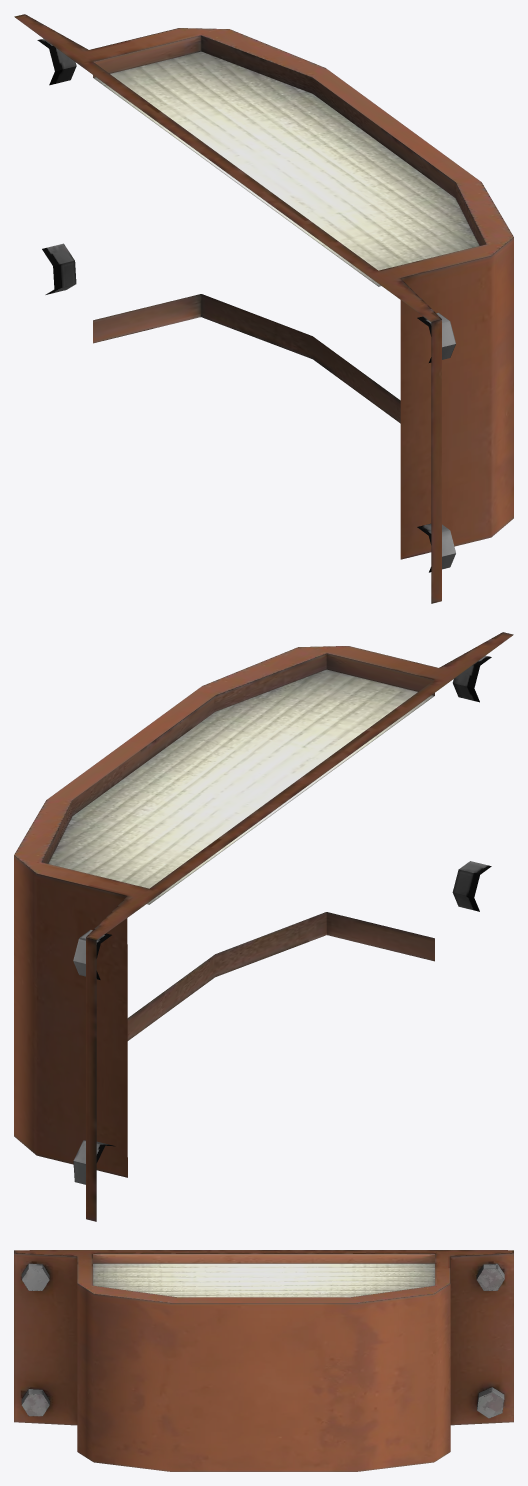
3 views of the same model, one above another, from view 1: azimuth 30°, elevation 25°; view 2: azimuth 150°, elevation 25°; view 3: azimuth 270°, elevation 25° (orthographic). The views are drawn at different scales.
Parts seen in each view (by area): view 1: body0_model0_lod0_mesh0; view 2: body0_model0_lod0_mesh0; view 3: body0_model0_lod0_mesh0.
Part boxes in pixels (x1=…): body0_model0_lod0_mesh0: x1=14, y1=14, x2=513, y2=603; body0_model0_lod0_mesh0: x1=14, y1=632, x2=513, y2=1221; body0_model0_lod0_mesh0: x1=14, y1=1250, x2=513, y2=1471.
Size of the model in its own units: 6.91 by 10.24 by 27.48.
Materials: 1 (1 with a texture image).
